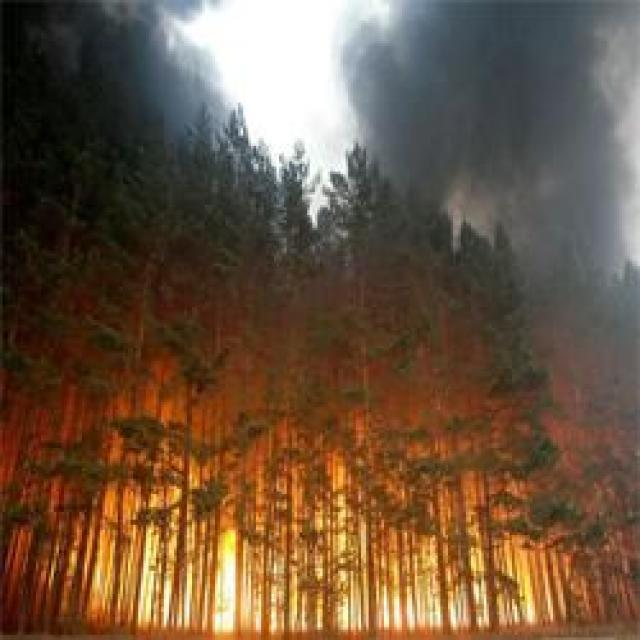Fire: (337, 592, 536, 628), (214, 533, 240, 626)
